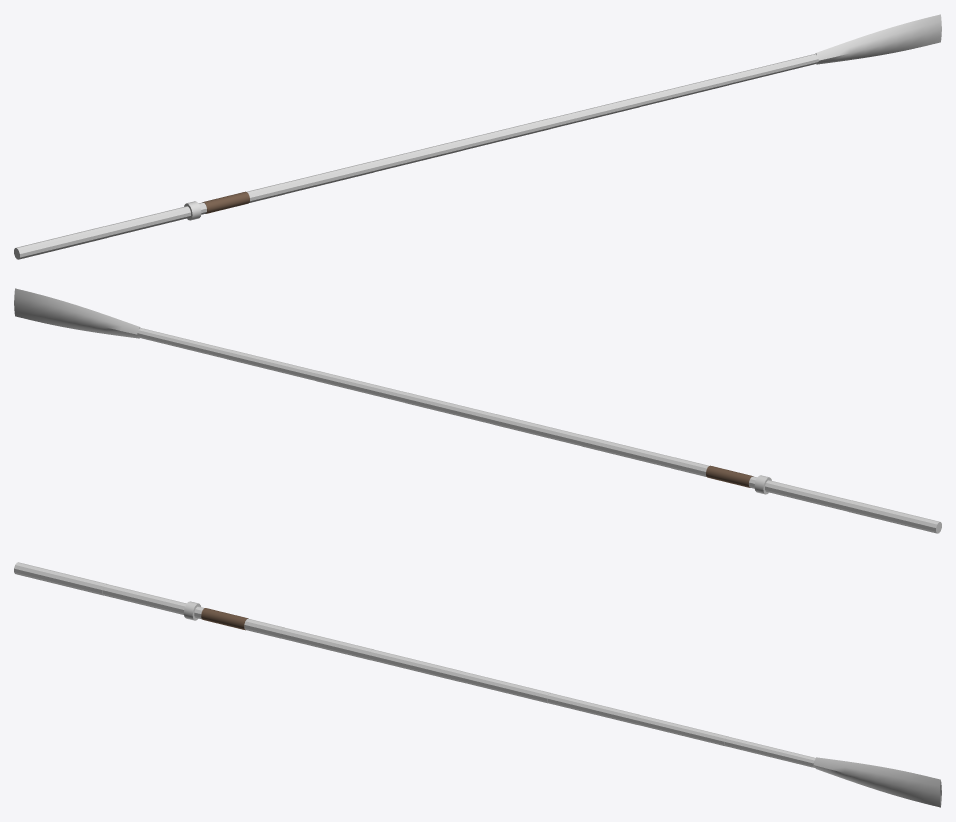
File: Oar_S4.glb
3 renders of one model, top to bottom at view 1: azimuth 30°, elevation 25°; view 2: azimuth 150°, elevation 25°; view 3: azimuth 330°, elevation 25°, orthographic.
Parts seen in each view (by area): view 1: Oar_S4; view 2: Oar_S4; view 3: Oar_S4.
Boxes of the visible parts, <box> form: Oar_S4: <box>14,14,941,259</box>; Oar_S4: <box>14,288,941,533</box>; Oar_S4: <box>14,562,941,807</box>.
Size of the model in its own units: 5.18 by 0.15 by 0.086.
